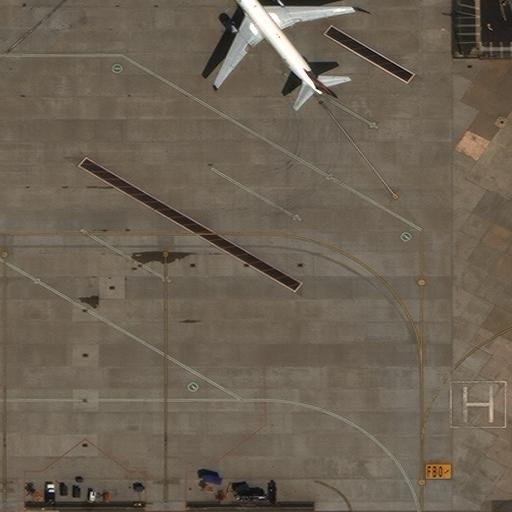Large Civil Transport: (212, 0, 351, 94)
